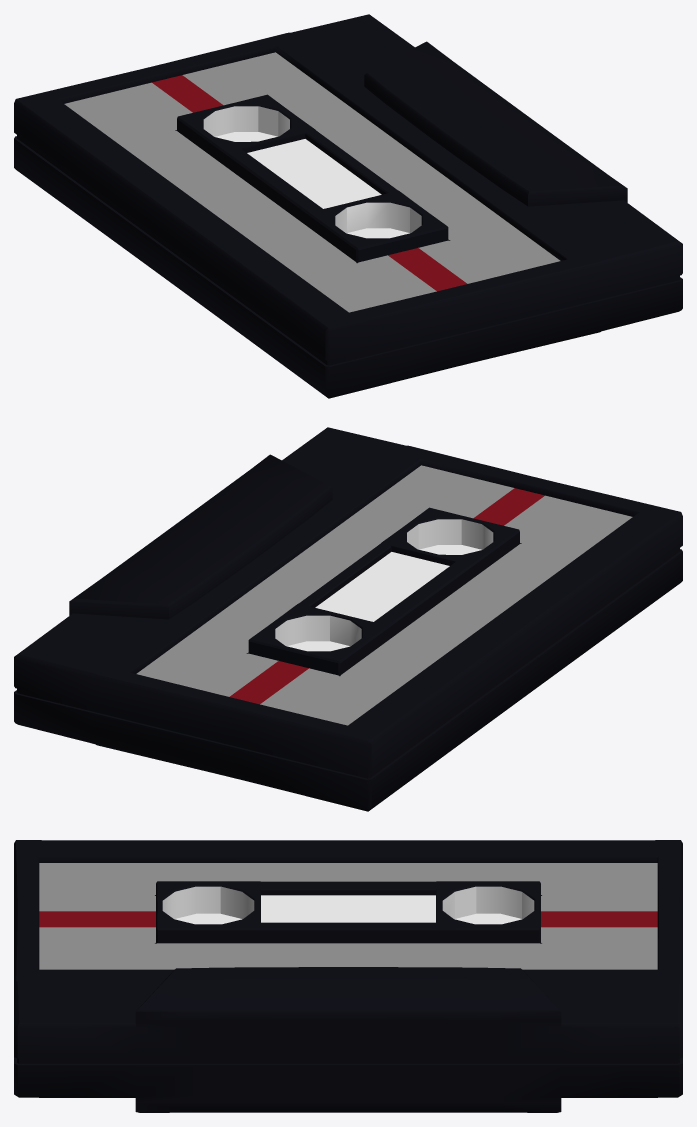
The model's file is Audio_Case_Blue.FBX.
3 renders of one model, top to bottom at view 1: azimuth 30°, elevation 25°; view 2: azimuth 150°, elevation 25°; view 3: azimuth 270°, elevation 25°, orthographic. The views are drawn at different scales.
Visible parts, largest first — view 1: Box120; view 2: Box120; view 3: Box120.
Part boxes in pixels (left/top/right/bottom): Box120: left=14, top=14, right=682, bottom=398; Box120: left=14, top=427, right=682, bottom=811; Box120: left=14, top=840, right=682, bottom=1112.
Size of the model in its own units: 594 by 156 by 905.
